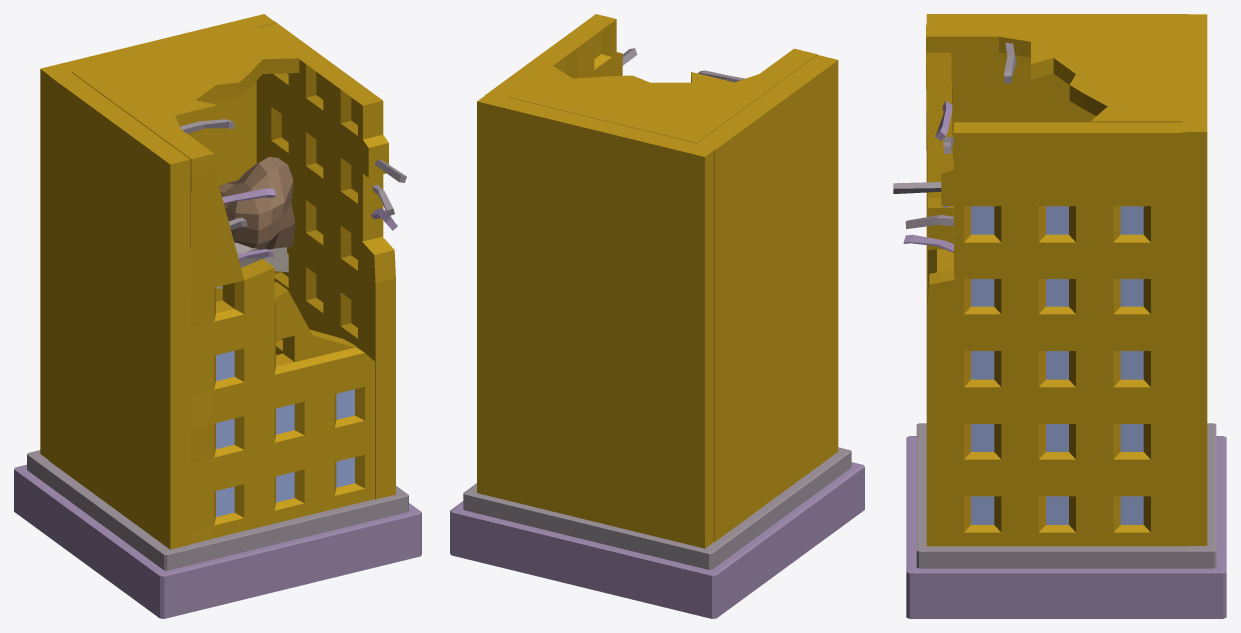
The model's file is fbhome_1.fbx.
3 views of the same model, side by side, from view 1: azimuth 30°, elevation 25°; view 2: azimuth 150°, elevation 25°; view 3: azimuth 270°, elevation 25° (orthographic). The views are drawn at different scales.
Visible parts, largest first — view 1: Cube.003; view 2: Cube.003; view 3: Cube.003.
Part boxes in pixels (bbox=[...]): Cube.003: bbox=[14, 14, 421, 618]; Cube.003: bbox=[450, 14, 864, 618]; Cube.003: bbox=[893, 14, 1226, 618].
Bounding box in the file's own units: 404 × 655 × 414.
